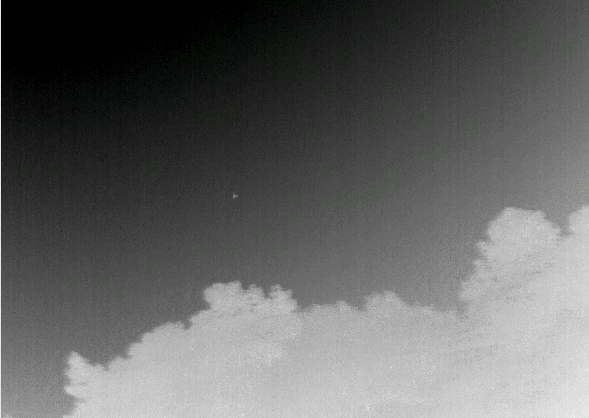dim target: (231, 192, 239, 199)
